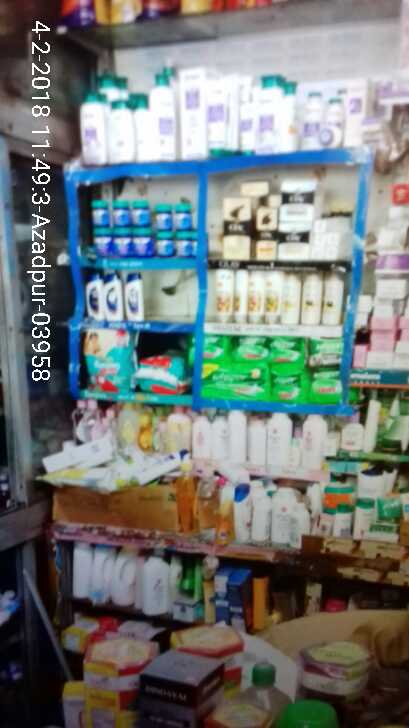vicks: (87, 195, 203, 259)
